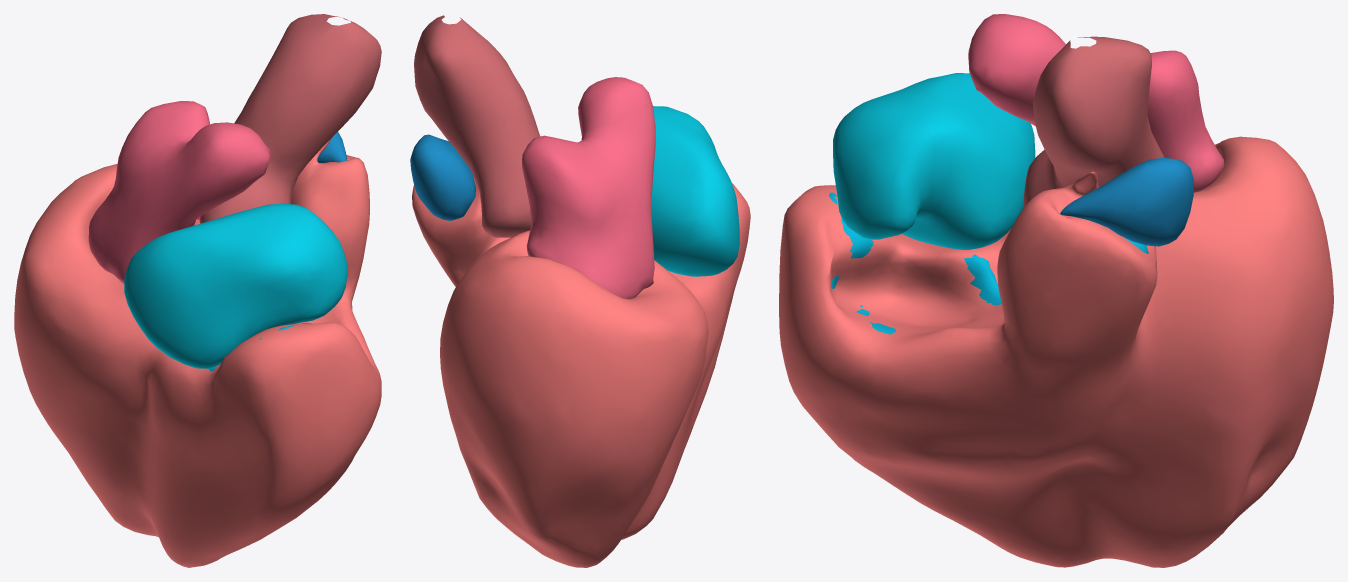
File: frame_0.glb
3 renders of one model, left to right at view 1: azimuth 30°, elevation 25°; view 2: azimuth 150°, elevation 25°; view 3: azimuth 270°, elevation 25°, orthographic. The views are drawn at different scales.
Parts seen in each view (by area): view 1: Renderer Node; view 2: Renderer Node; view 3: Renderer Node.
Boxes of the visible parts, x1,y1,x2,y2 form: Renderer Node: (14,14,381,567); Renderer Node: (410,15,750,567); Renderer Node: (779,14,1333,567).
Size of the model in its own units: 103 by 159 by 128.
